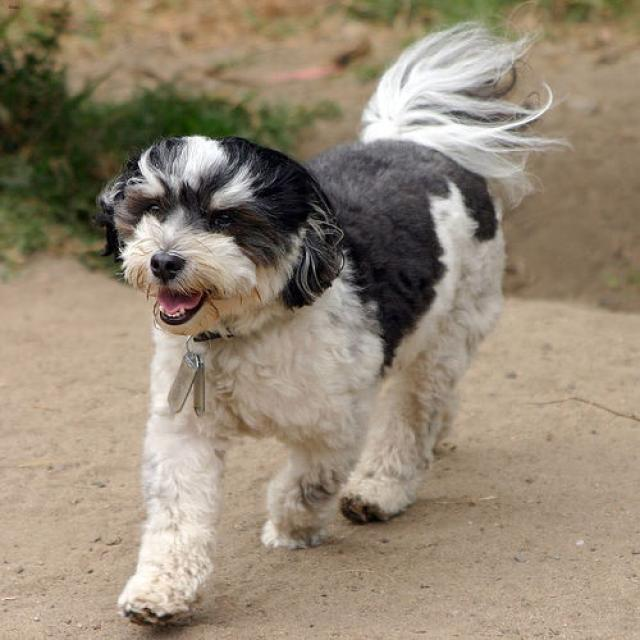dog-havanese: (81, 1, 582, 637)
